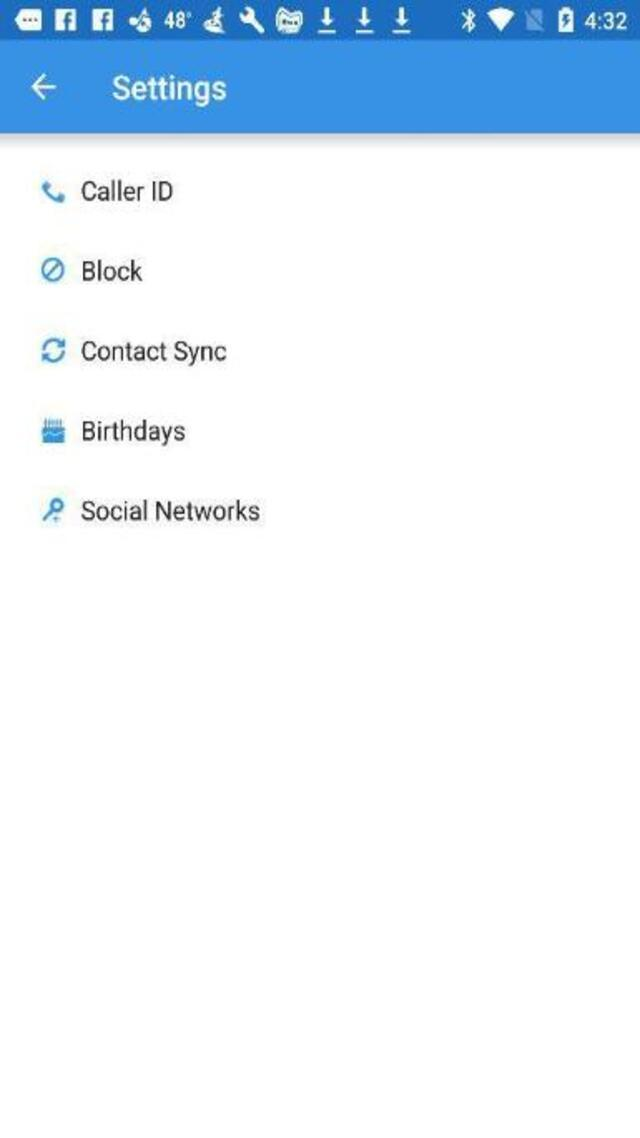Icon: (29, 73, 56, 101), (40, 417, 66, 444), (40, 337, 66, 364), (42, 497, 64, 524), (42, 258, 64, 283), (42, 180, 64, 204)
Text: (80, 497, 258, 520), (112, 73, 227, 108), (80, 341, 226, 366), (83, 418, 186, 446), (81, 180, 172, 201), (82, 260, 144, 281)
